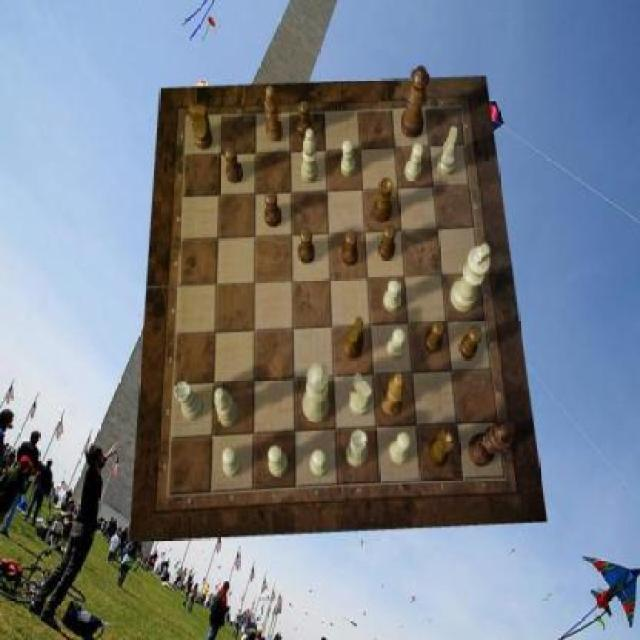bishop: (264, 86, 284, 142), (382, 374, 406, 416)
black-bishop: (469, 420, 517, 468)
black-king: (189, 103, 213, 151), (343, 317, 364, 359)
black-knight: (460, 326, 483, 360), (224, 146, 243, 184), (426, 320, 446, 354), (298, 229, 316, 264), (343, 231, 360, 267), (379, 224, 396, 260), (266, 192, 283, 228), (297, 102, 313, 140)
black-pawn: (400, 66, 430, 139)
black-queen: (428, 429, 454, 469), (374, 177, 394, 222)
black-rook: (300, 129, 318, 184), (214, 388, 238, 428)
white-bishop: (451, 243, 491, 312)
white-king: (437, 126, 458, 176), (351, 374, 374, 416)
white-knight: (404, 143, 424, 182), (391, 430, 412, 464), (268, 446, 288, 479), (383, 278, 401, 312), (340, 139, 356, 176), (222, 448, 240, 478), (388, 329, 405, 360), (311, 450, 328, 476)
white-pawn: (302, 363, 328, 423)
white-queen: (176, 382, 204, 422), (346, 429, 369, 467)
